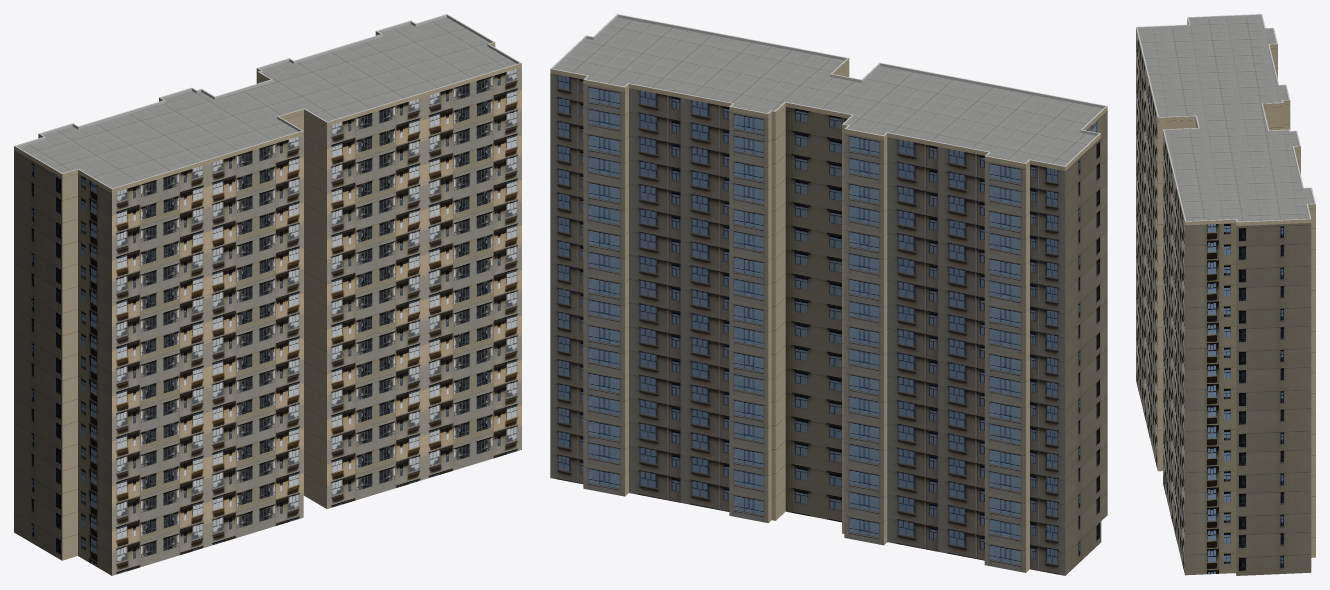
3 views of the same model, side by side, from view 1: azimuth 30°, elevation 25°; view 2: azimuth 150°, elevation 25°; view 3: azimuth 270°, elevation 25° (orthographic). The views are drawn at different scales.
Parts seen in each view (by area): view 1: 73; view 2: 73; view 3: 73.
Part boxes in pixels (x1,y1,x2,y2): 73: (14,14,521,575); 73: (550,14,1107,575); 73: (1136,14,1315,575).
Size of the model in its own units: 61.6 by 48.71 by 22.47.
9 materials, 9 textured.
